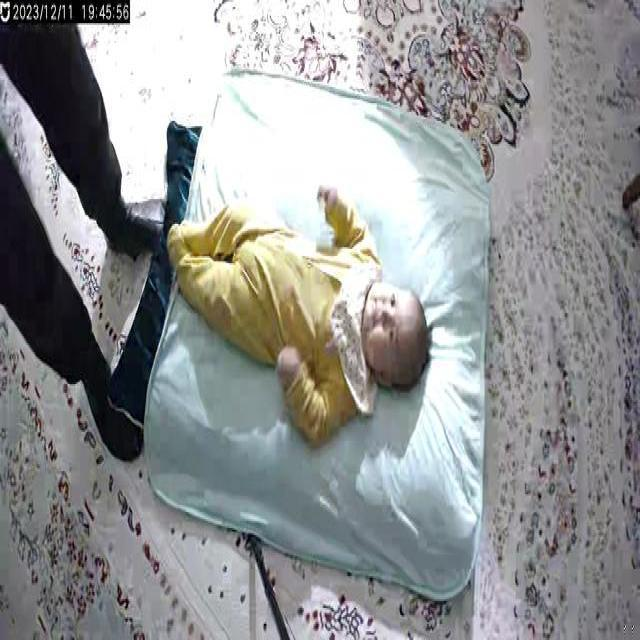baby: (166, 172, 434, 452)
